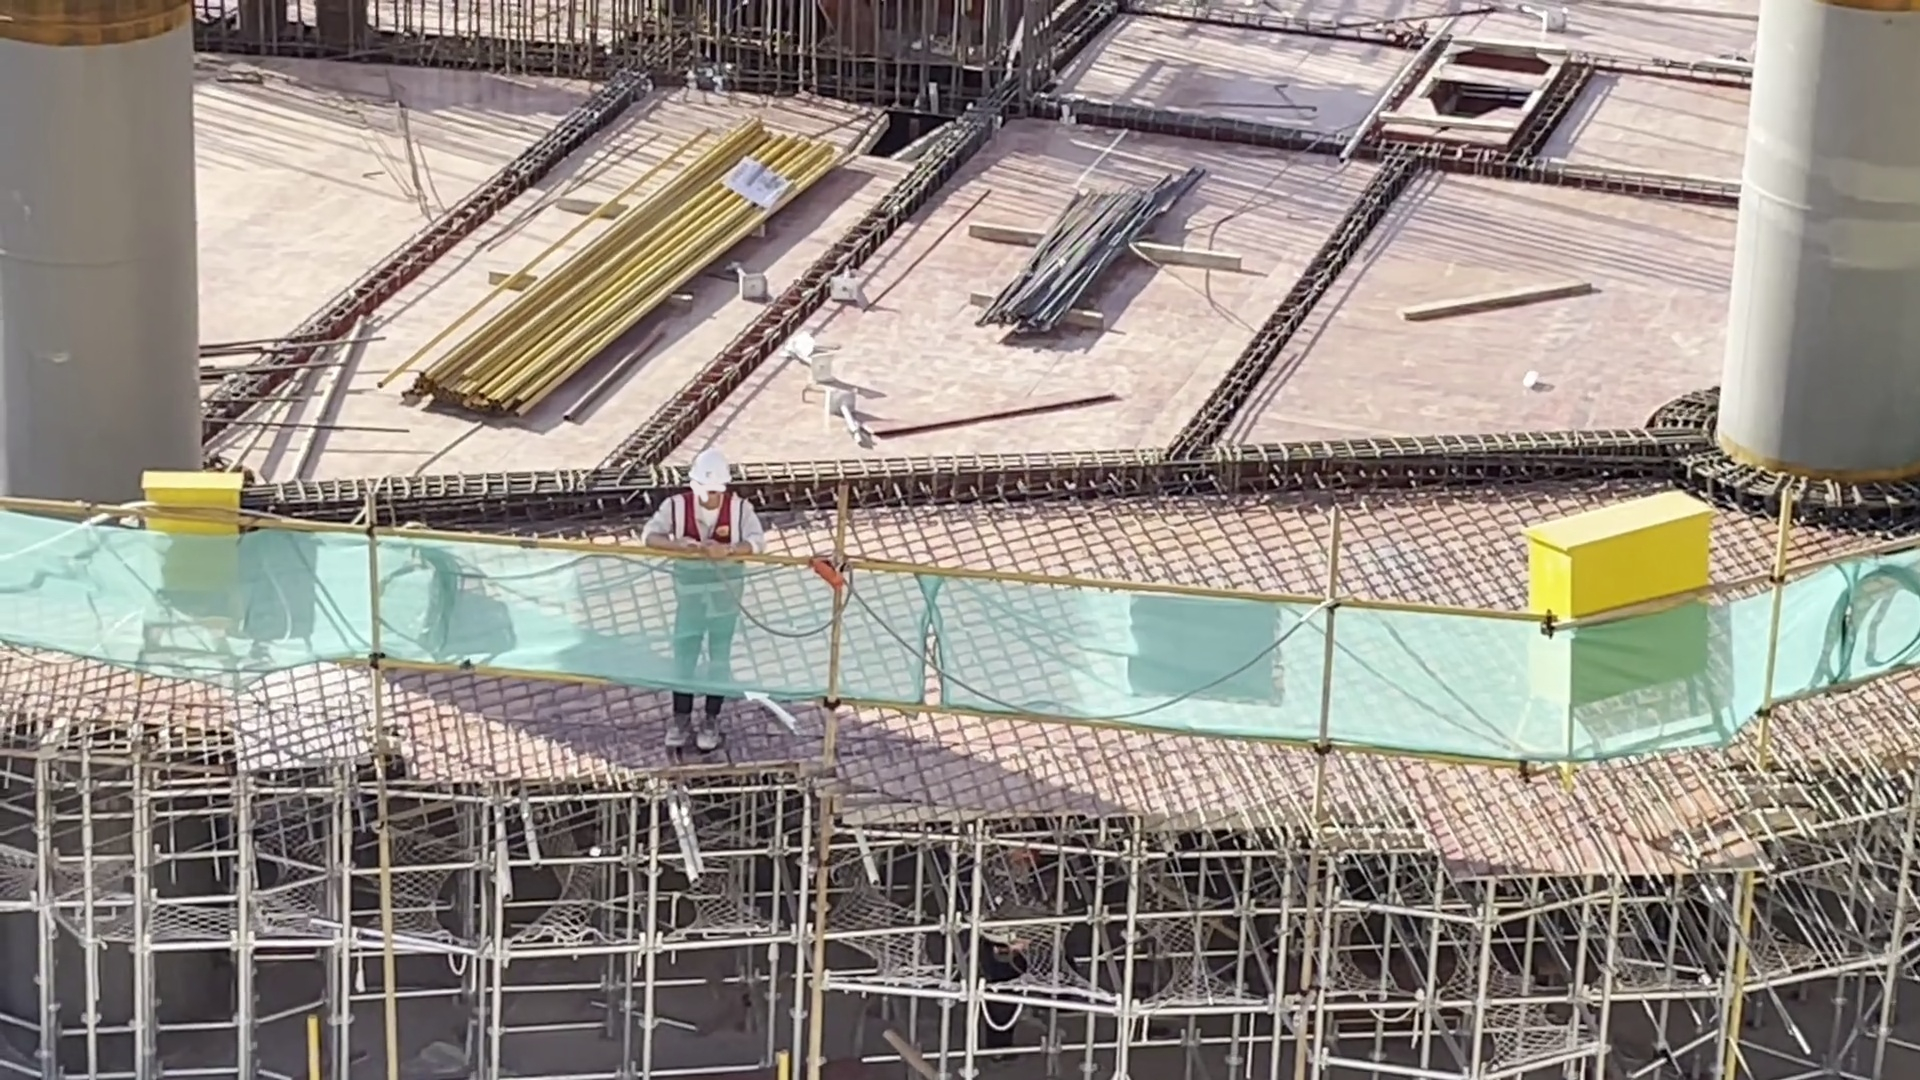ebox: (1561, 494, 1686, 742), (146, 472, 243, 602)
helmet: (689, 447, 733, 501), (1005, 836, 1041, 868)
person: (664, 453, 748, 743), (978, 841, 1043, 1058)
rebar: (991, 176, 1179, 330)
vest: (693, 502, 741, 607), (991, 882, 1034, 991)
